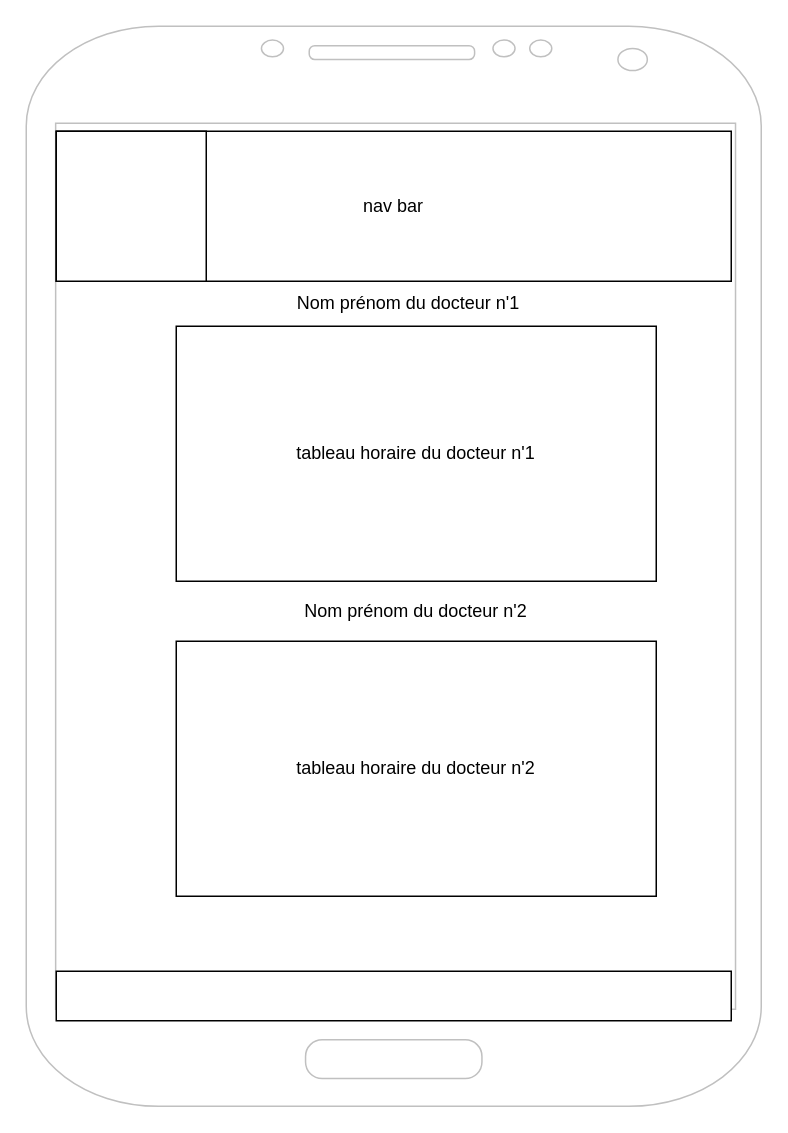
The diagram is 788 pixels wide and 1133 high, and some of its shapes have lost their labels. The shapes that lost their labels are listed below. From the top down, each one's centre as x and y in pixels, then its label:
(x=130, y=205): nom de l'entreprise
(x=393, y=995): footer
